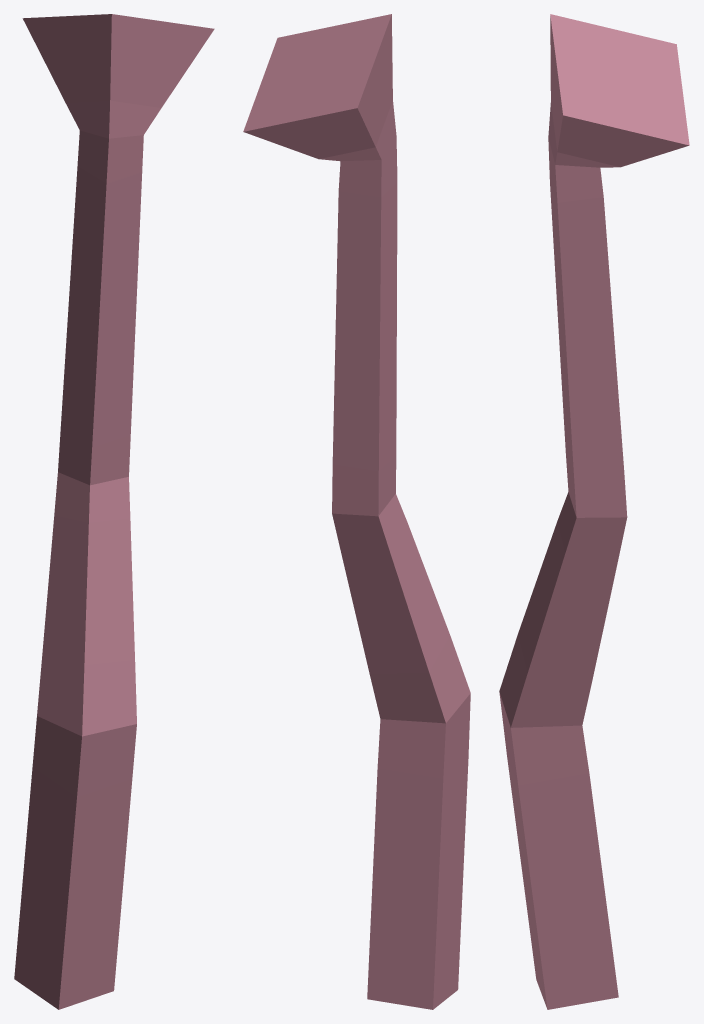
Rendered from LPSciFi_AlienPlantA2.fbx.
3 renders of one model, left to right at view 1: azimuth 30°, elevation 25°; view 2: azimuth 150°, elevation 25°; view 3: azimuth 270°, elevation 25°, orthographic. The views are drawn at different scales.
Visible parts, largest first — view 1: AlienPlantA2; view 2: AlienPlantA2; view 3: AlienPlantA2.
Part boxes in pixels (bbox=[...]): AlienPlantA2: bbox=[14, 14, 214, 1009]; AlienPlantA2: bbox=[243, 14, 470, 1009]; AlienPlantA2: bbox=[499, 14, 689, 1009].
Size of the model in its own units: 58.79 by 307 by 53.16.
